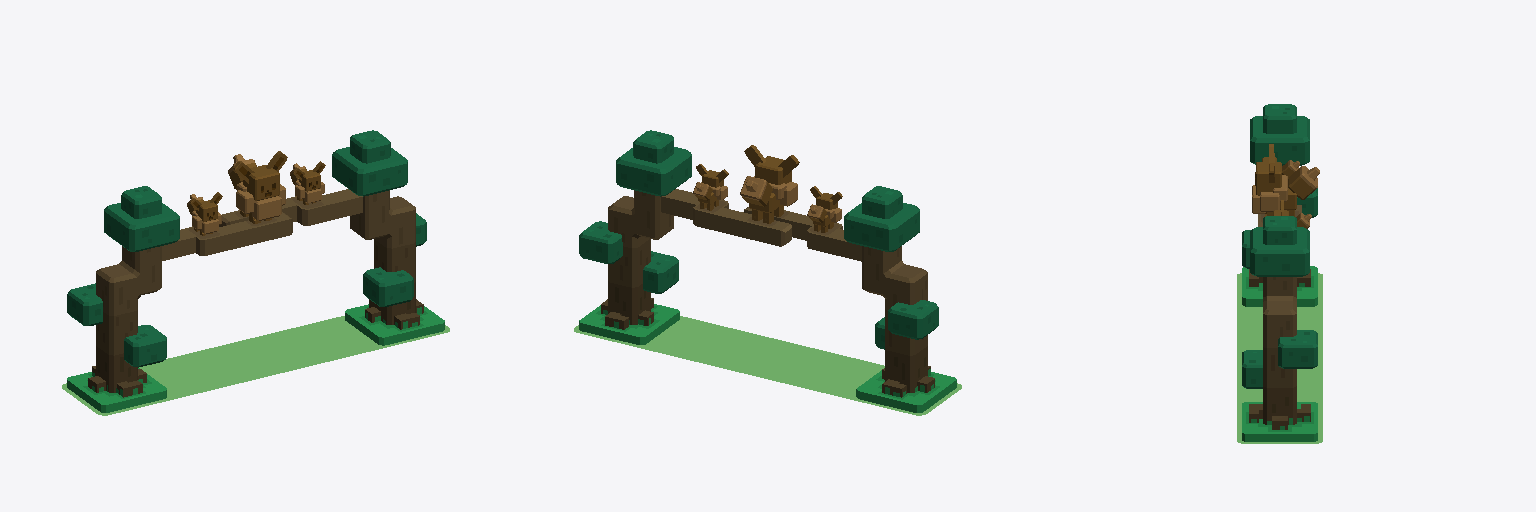
3 renders of one model, left to right at view 1: azimuth 30°, elevation 25°; view 2: azimuth 150°, elevation 25°; view 3: azimuth 270°, elevation 25°, orthographic.
Visible parts, largest first — view 1: bdEeveeArch; view 2: bdEeveeArch; view 3: bdEeveeArch.
Boxes of the visible parts, box(x1,y1,x2,y2) form: bdEeveeArch: box(62, 130, 449, 415); bdEeveeArch: box(574, 130, 961, 415); bdEeveeArch: box(1237, 104, 1322, 443).
Size of the model in its own units: 15.24 by 8.44 by 3.24.
1 materials, 1 textured.